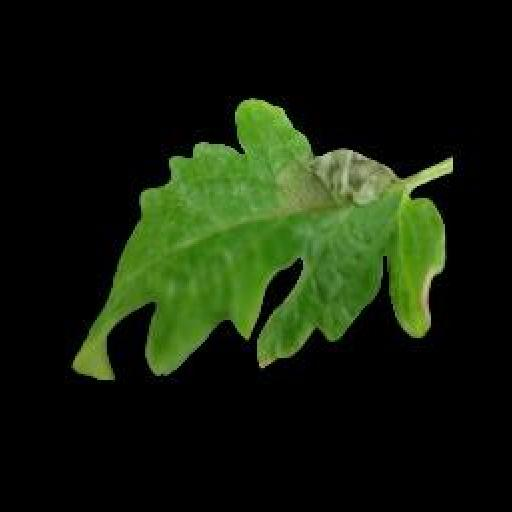disease_tomato: (70, 98, 446, 384)
